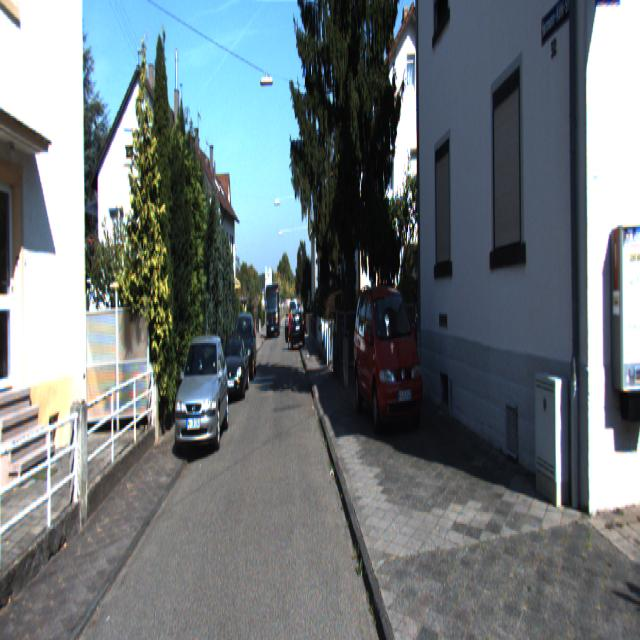Car: (352, 279, 424, 444), (174, 329, 229, 463), (218, 332, 248, 405), (232, 308, 256, 378)
DontCare: (285, 298, 305, 348)
